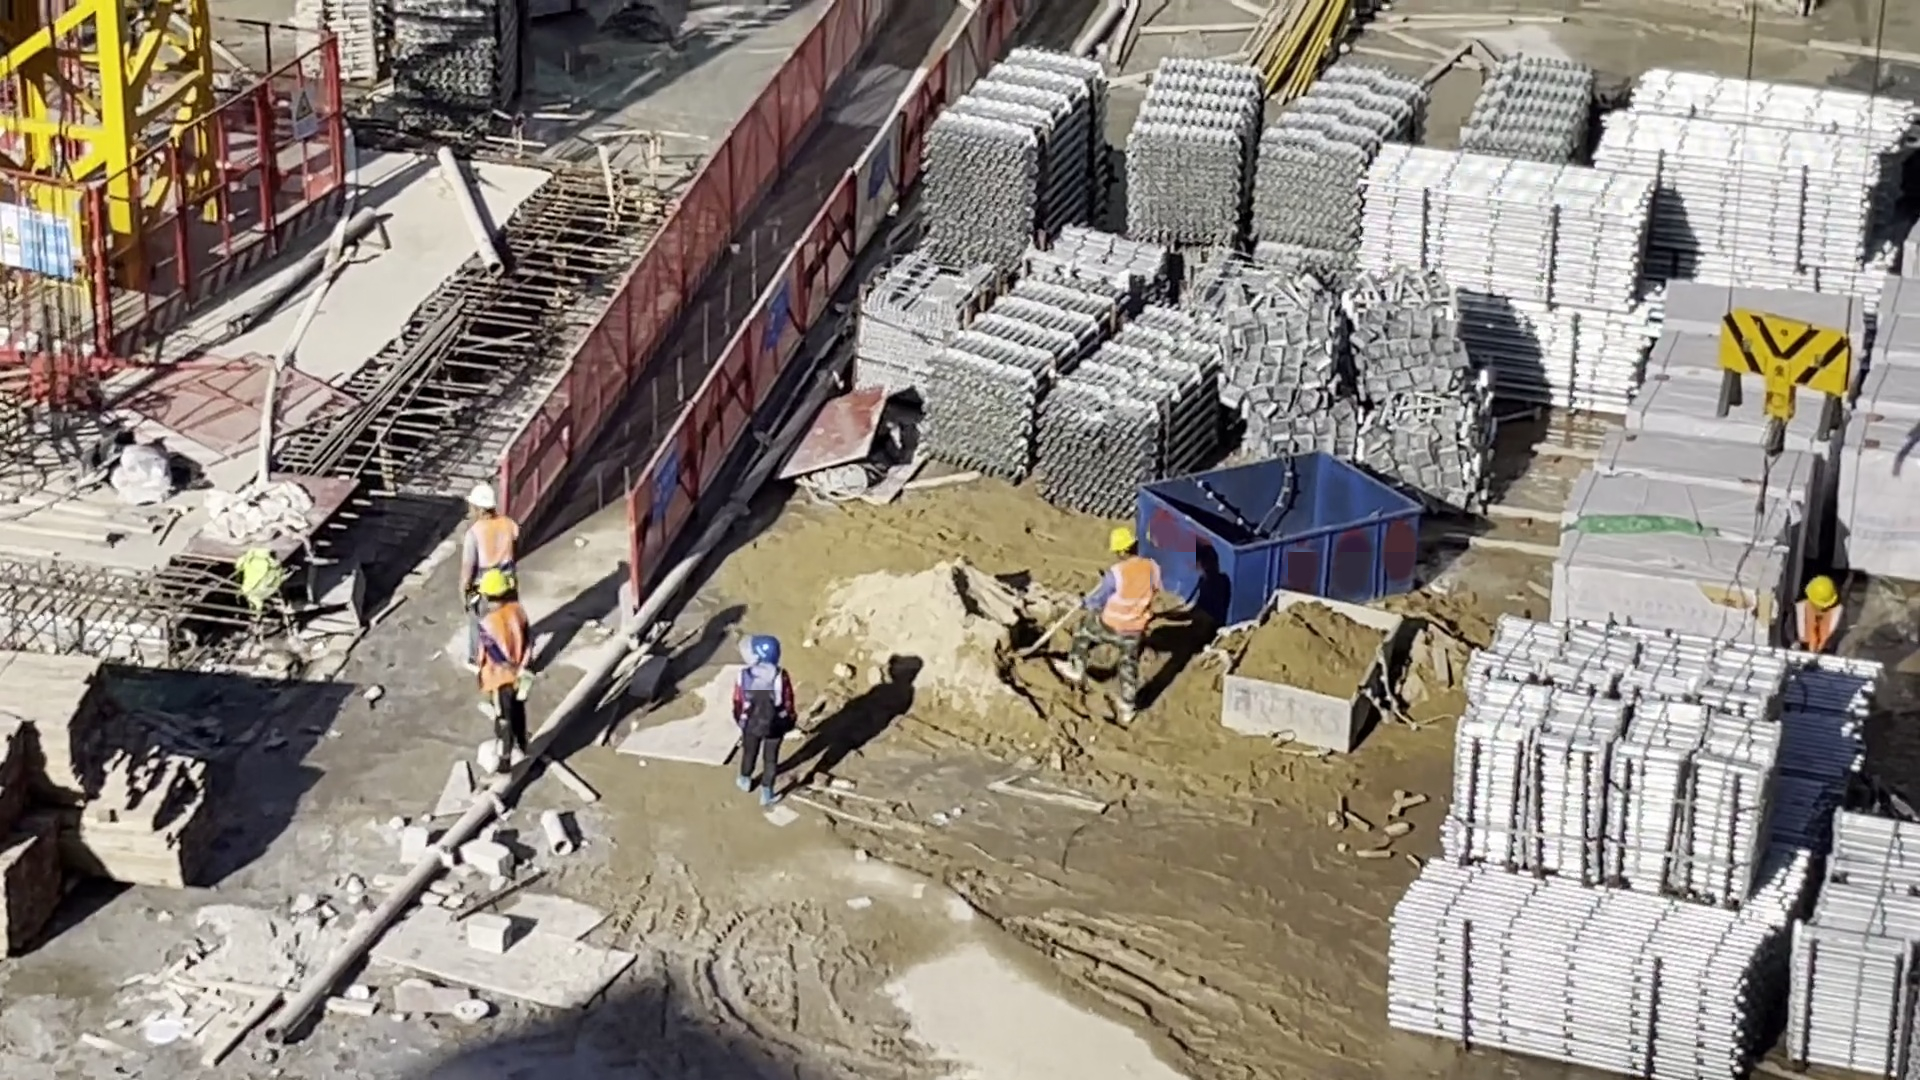fence: (496, 1, 1009, 598)
helmet: (1795, 556, 1837, 614), (746, 619, 790, 670), (468, 478, 506, 522), (473, 568, 510, 602), (1105, 509, 1134, 551)
hook: (1701, 292, 1871, 456)
hopper: (1131, 468, 1430, 605), (1236, 588, 1392, 765)
person: (467, 577, 538, 777), (1099, 527, 1147, 734), (735, 635, 792, 806), (449, 486, 520, 574), (1797, 569, 1852, 674)
scaffold: (1387, 618, 1889, 1059), (850, 240, 1202, 518), (1352, 133, 1648, 426), (1597, 59, 1919, 291), (1135, 53, 1418, 253), (1783, 799, 1920, 1080), (894, 43, 1103, 220), (285, 1, 525, 131), (1465, 39, 1594, 183)
vest: (474, 603, 525, 685), (1115, 552, 1160, 635), (465, 513, 523, 575), (741, 662, 784, 723)
wood: (1, 633, 230, 921)
